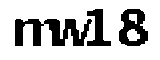1: (89, 6, 113, 50)
8: (116, 4, 151, 48)
m: (10, 16, 57, 51)
w: (50, 17, 89, 49)
